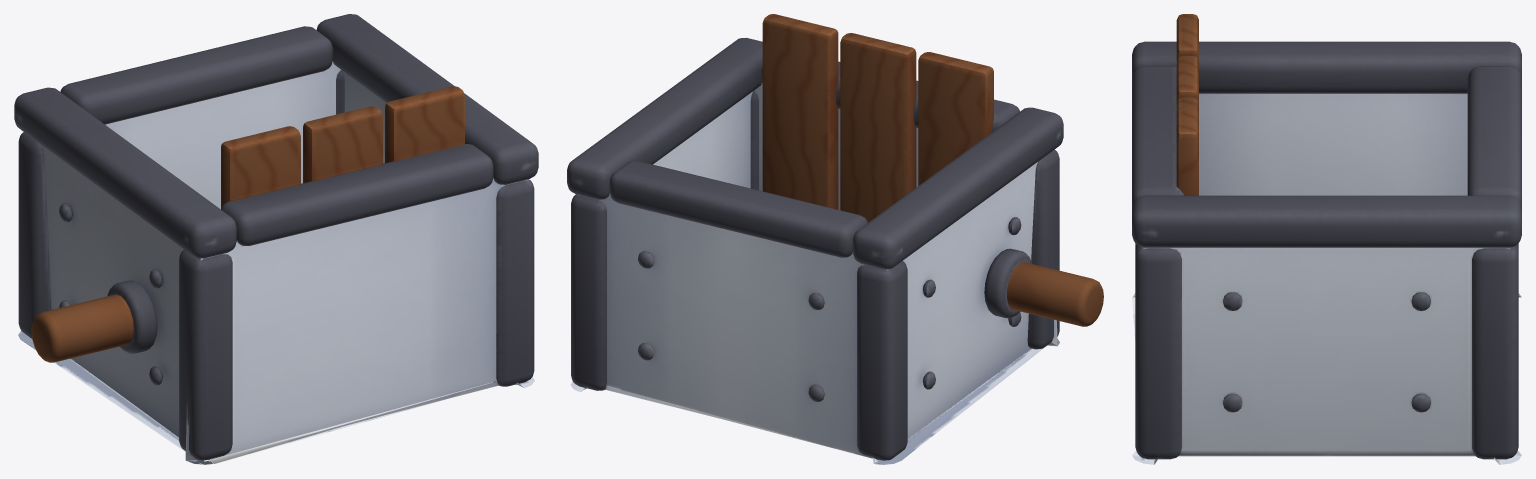
The model's file is seat.glb.
3 views of the same model, side by side, from view 1: azimuth 30°, elevation 25°; view 2: azimuth 150°, elevation 25°; view 3: azimuth 270°, elevation 25° (orthographic). The views are drawn at different scales.
Parts seen in each view (by area): view 1: seat; view 2: seat; view 3: seat.
Boxes of the visible parts, x1,y1,x2,y2 form: seat: (14,14,538,464); seat: (567,14,1103,464); seat: (1132,14,1521,464).
Size of the model in its own units: 1.66 by 1.05 by 1.22.
3 materials, 3 textured.
